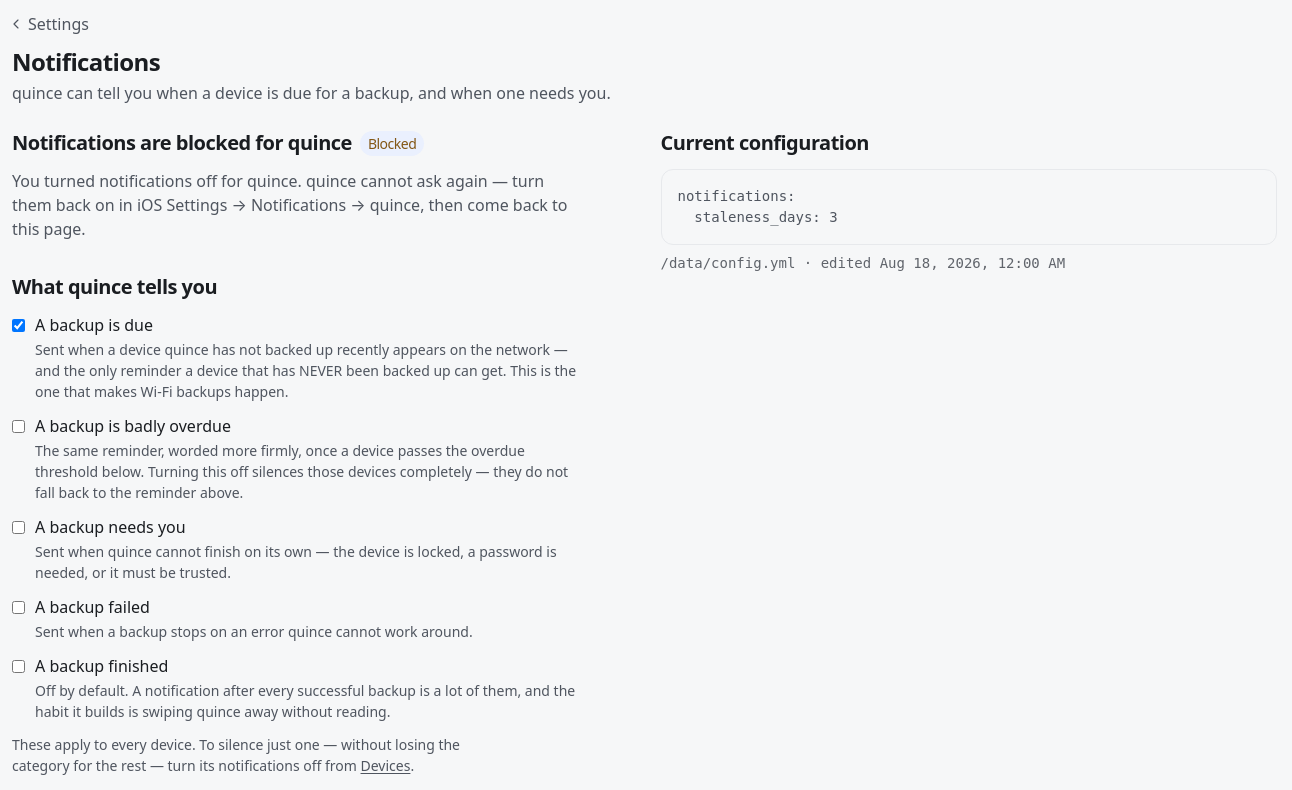
Test: what quince says when a category is off › warns as the last switch is turned off, before anything is saved
Expected: the text "will not notify you about anything" is not shown
Click the checkbox labelled "A backup is due".
click(18, 325)  # box [12,319,25,332]
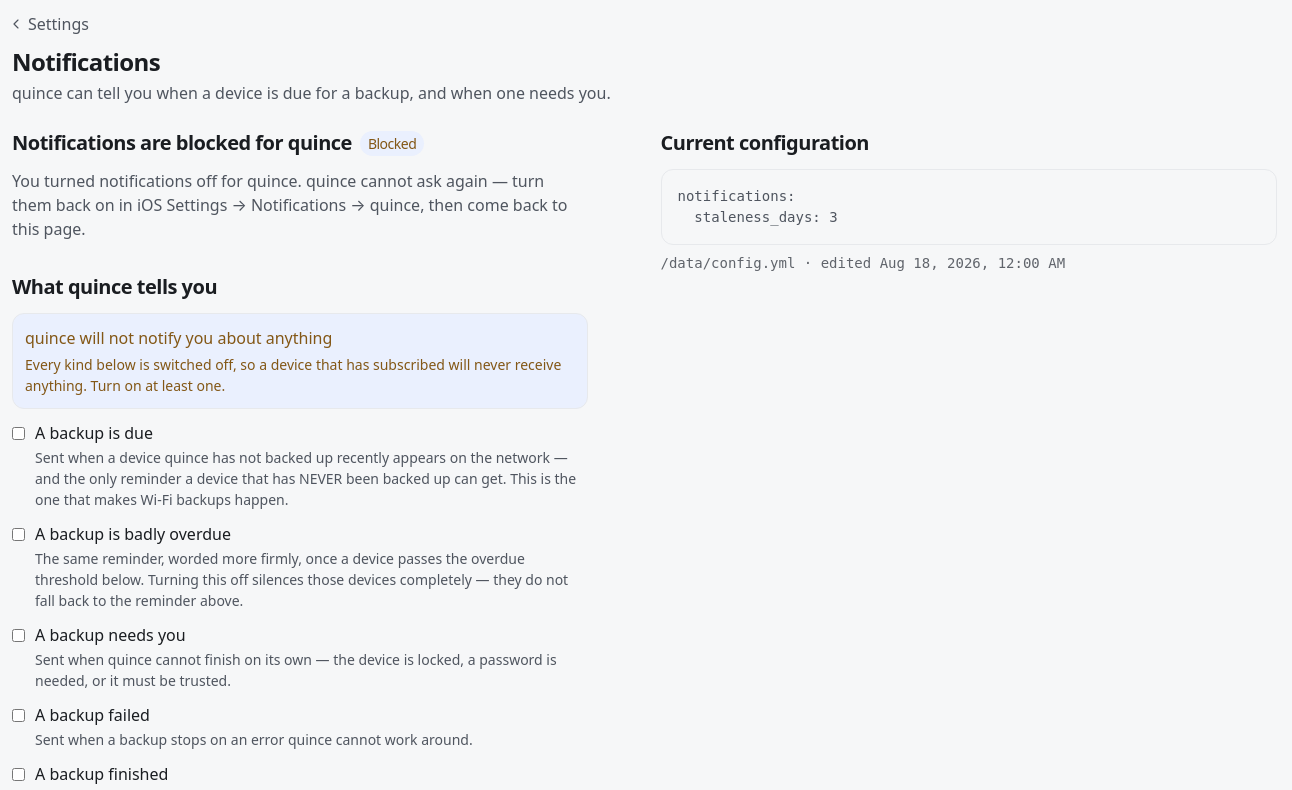
Expected: the text "quince will not notify you about anything" is shown, [25,327,332,349]
